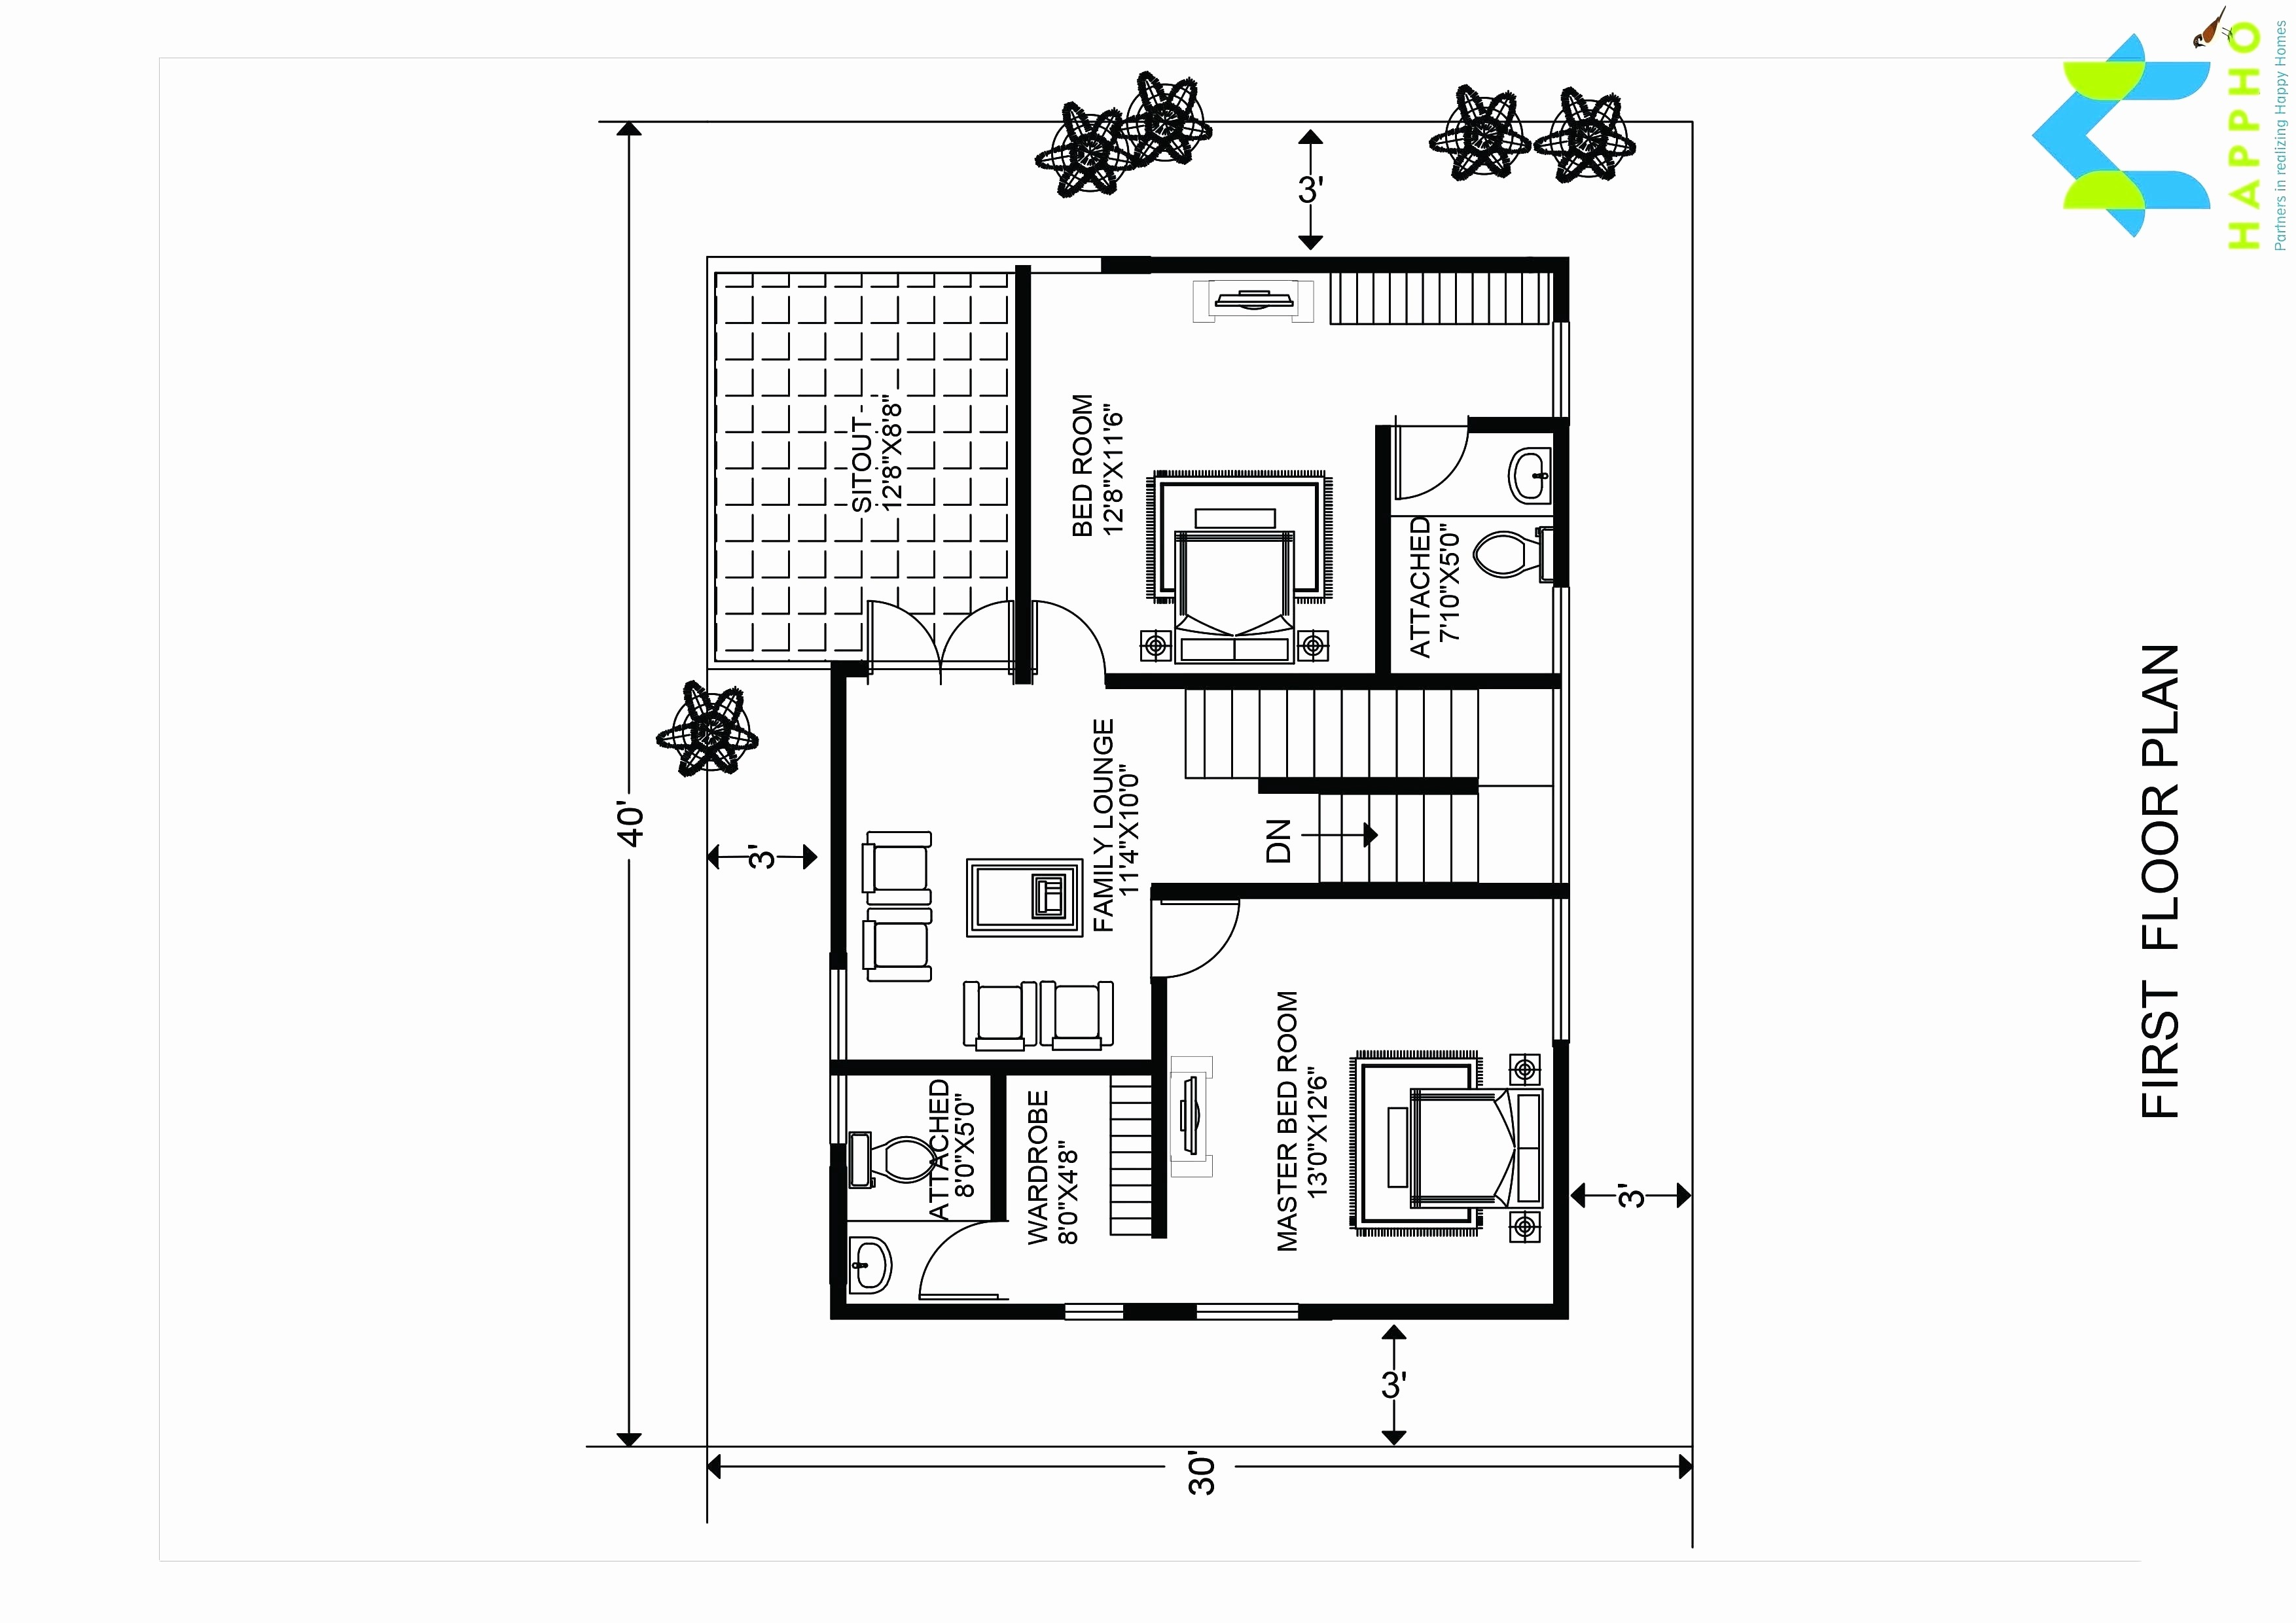door: (866, 590, 1019, 664), (1168, 901, 1261, 985), (910, 1221, 1001, 1305), (908, 1219, 1000, 1303), (1035, 583, 1128, 666), (1391, 439, 1474, 504)
